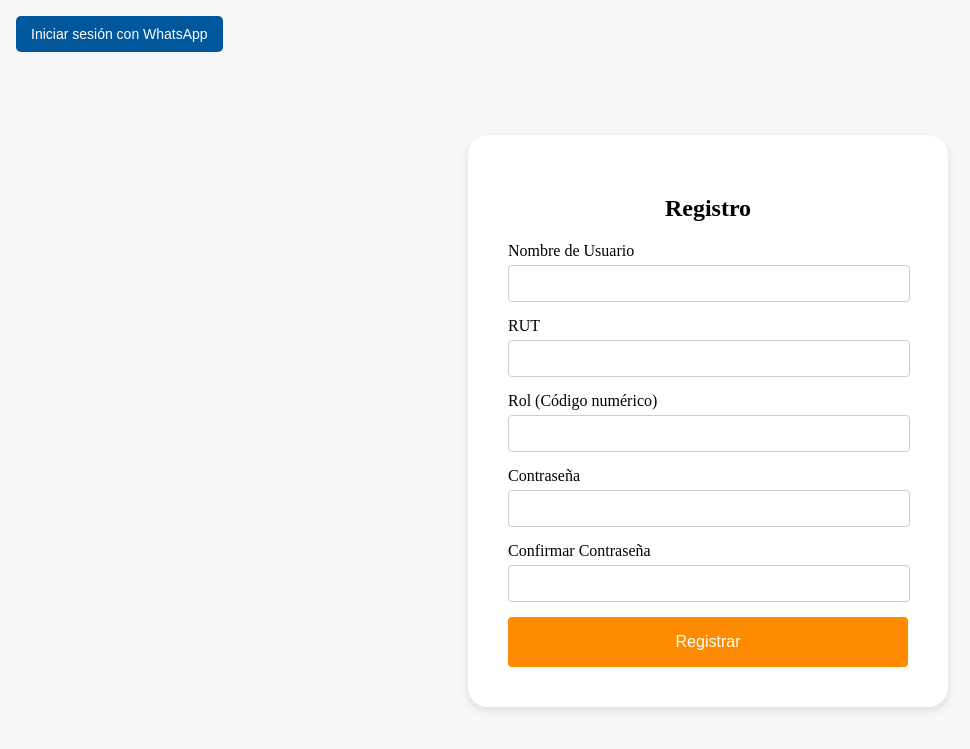
Test case: muestra error si algún campo está vacío
Solo rellenamos un campo
Type "Juan" into the field labelled "Nombre de Usuario". click: [709, 284]
box: [508,265,910,302]
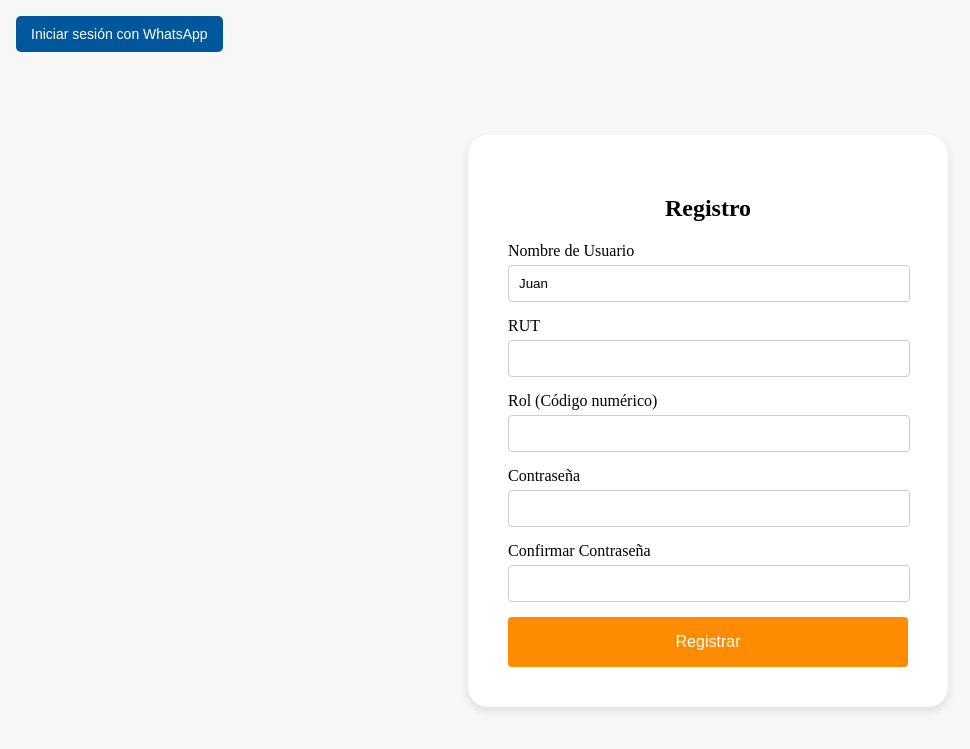
Click the button "Registrar". click: [708, 642]
box: [508,617,908,667]
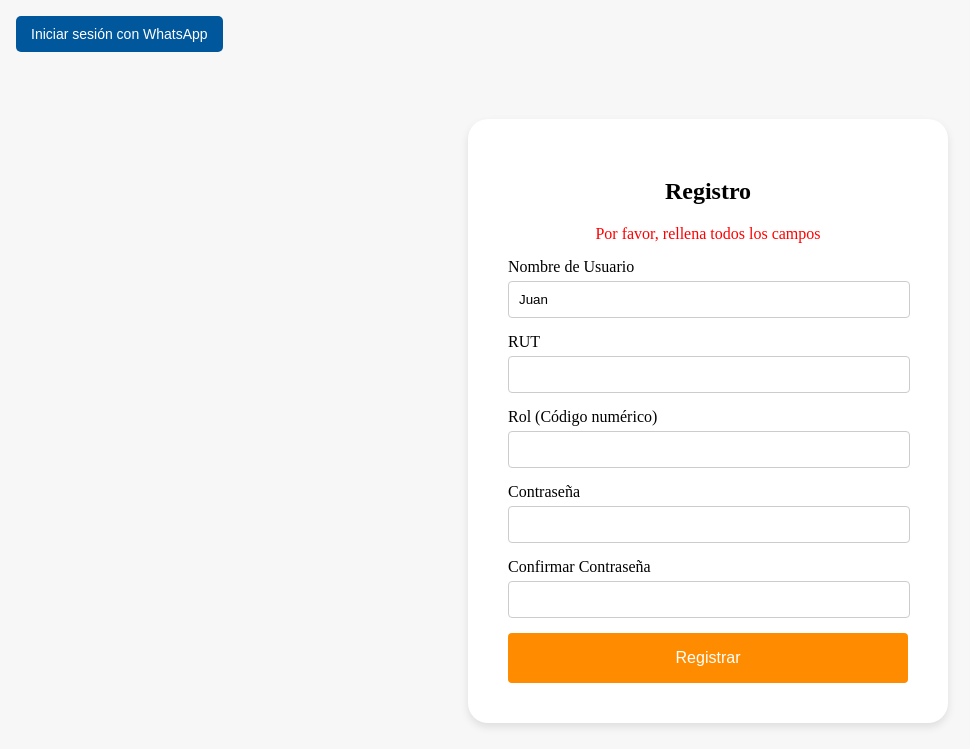
Expected: the text "Por favor, rellena todos los campos" is shown, [596,226,821,242]
